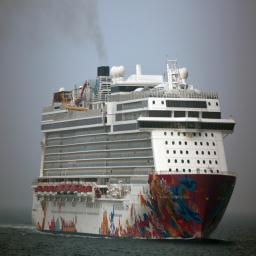cruises: (30, 59, 239, 246)
